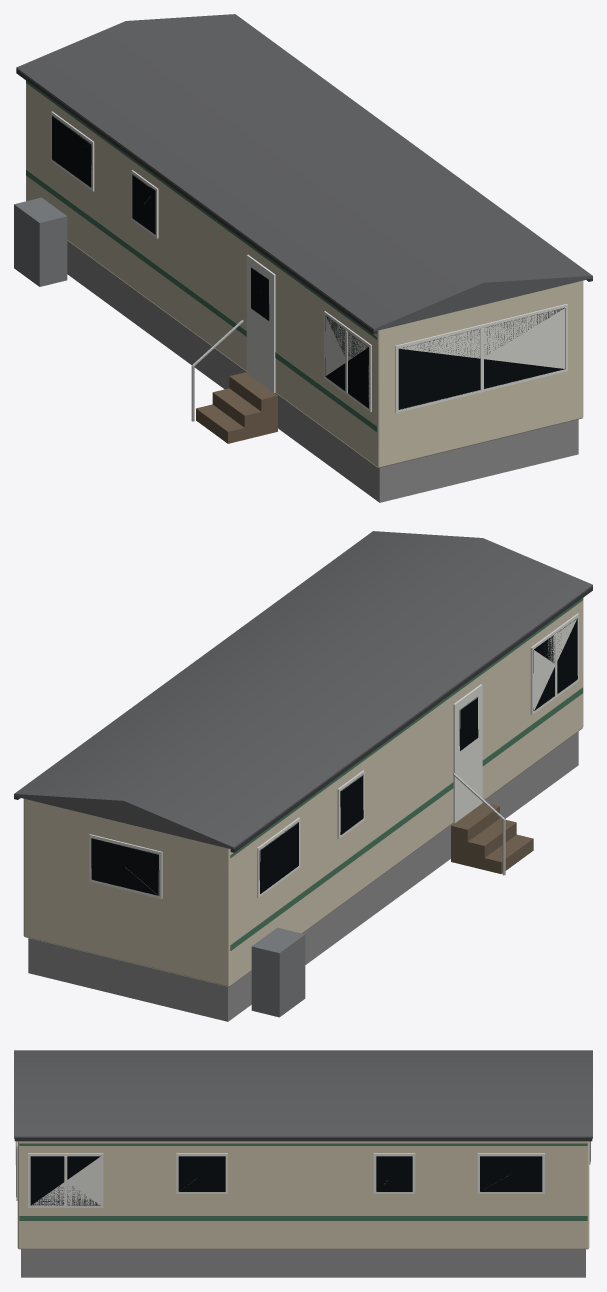
Rendered from vehicle.towed.static_caravan_a.glb.
The picture shows the model from 3 angles, top to bottom: view 1: azimuth 30°, elevation 25°; view 2: azimuth 150°, elevation 25°; view 3: azimuth 270°, elevation 25°; orthographic projection. The views are drawn at different scales.
Parts seen in each view (by area): view 1: main__concrete_666, main__paint_dcb, main__paint_999, main__enamel_ddd, main__glass_dark, main__enamel_778, main__timber_765, main__paint_576, main__enamel_444; view 2: main__concrete_666, main__paint_dcb, main__paint_999, main__glass_dark, main__enamel_ddd, main__enamel_778, main__timber_765, main__paint_576, main__enamel_444; view 3: main__concrete_666, main__paint_dcb, main__paint_999, main__glass_dark, main__paint_576, main__enamel_ddd, main__enamel_444.
Part boxes in pixels (x1,y1,x2,y2): main__concrete_666: (16, 14, 592, 331); main__paint_dcb: (26, 83, 583, 467); main__paint_999: (67, 240, 578, 502); main__enamel_ddd: (51, 111, 567, 412); main__glass_dark: (52, 115, 565, 409); main__enamel_778: (14, 197, 67, 286); main__timber_765: (196, 372, 277, 443); main__paint_576: (26, 80, 377, 431); main__enamel_444: (16, 69, 592, 334); main__concrete_666: (14, 531, 592, 849); main__paint_dcb: (23, 600, 583, 986); main__paint_999: (28, 731, 578, 1021); main__glass_dark: (91, 618, 577, 895); main__enamel_ddd: (89, 613, 578, 898); main__enamel_778: (251, 927, 305, 1017); main__timber_765: (451, 802, 533, 873); main__paint_576: (230, 598, 583, 950); main__enamel_444: (14, 586, 592, 852); main__concrete_666: (14, 1050, 592, 1138); main__paint_dcb: (17, 1141, 589, 1249); main__paint_999: (21, 1249, 585, 1277); main__glass_dark: (16, 1141, 590, 1205); main__paint_576: (19, 1143, 587, 1220); main__enamel_ddd: (15, 1141, 590, 1207); main__enamel_444: (14, 1138, 592, 1141).
Bounding box in the file's own units: 4.79 × 3.42 × 11.14.
